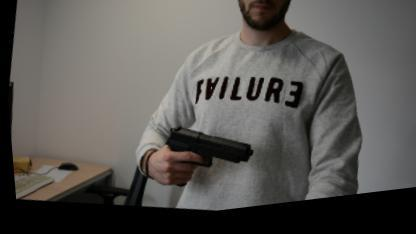pistol: (153, 120, 256, 205)
